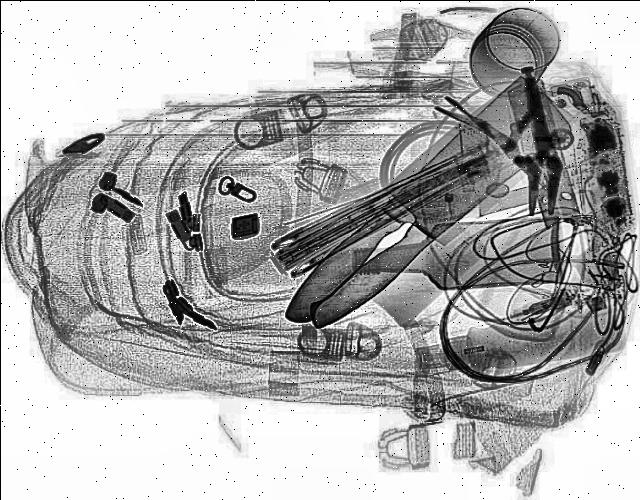Knife: (262, 73, 600, 347), (261, 75, 591, 335)
